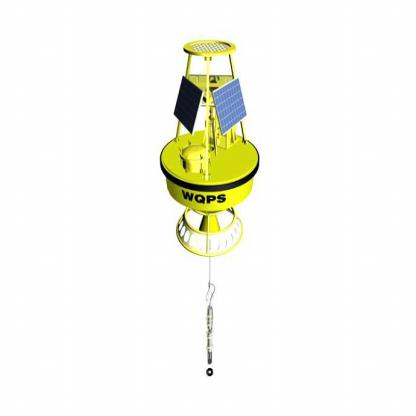buoy: (151, 34, 266, 260)
